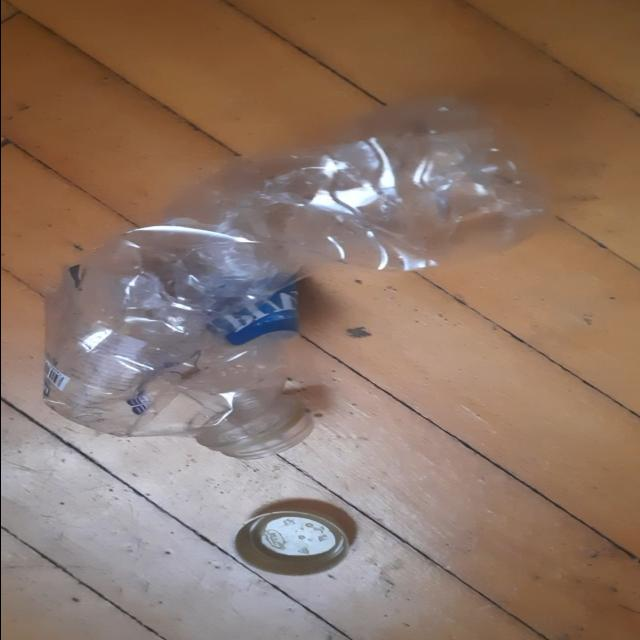Plastic: (42, 96, 550, 460)
